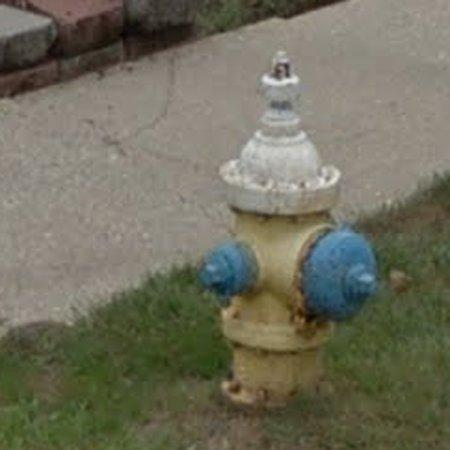a fire hydrant: (201, 52, 378, 404)
